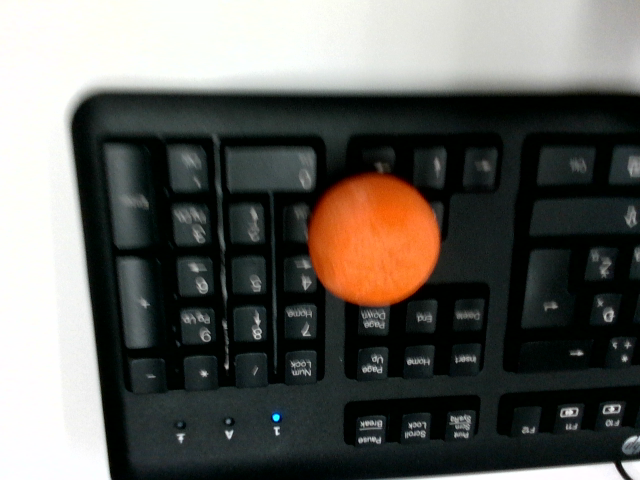orange: (308, 173, 440, 305)
